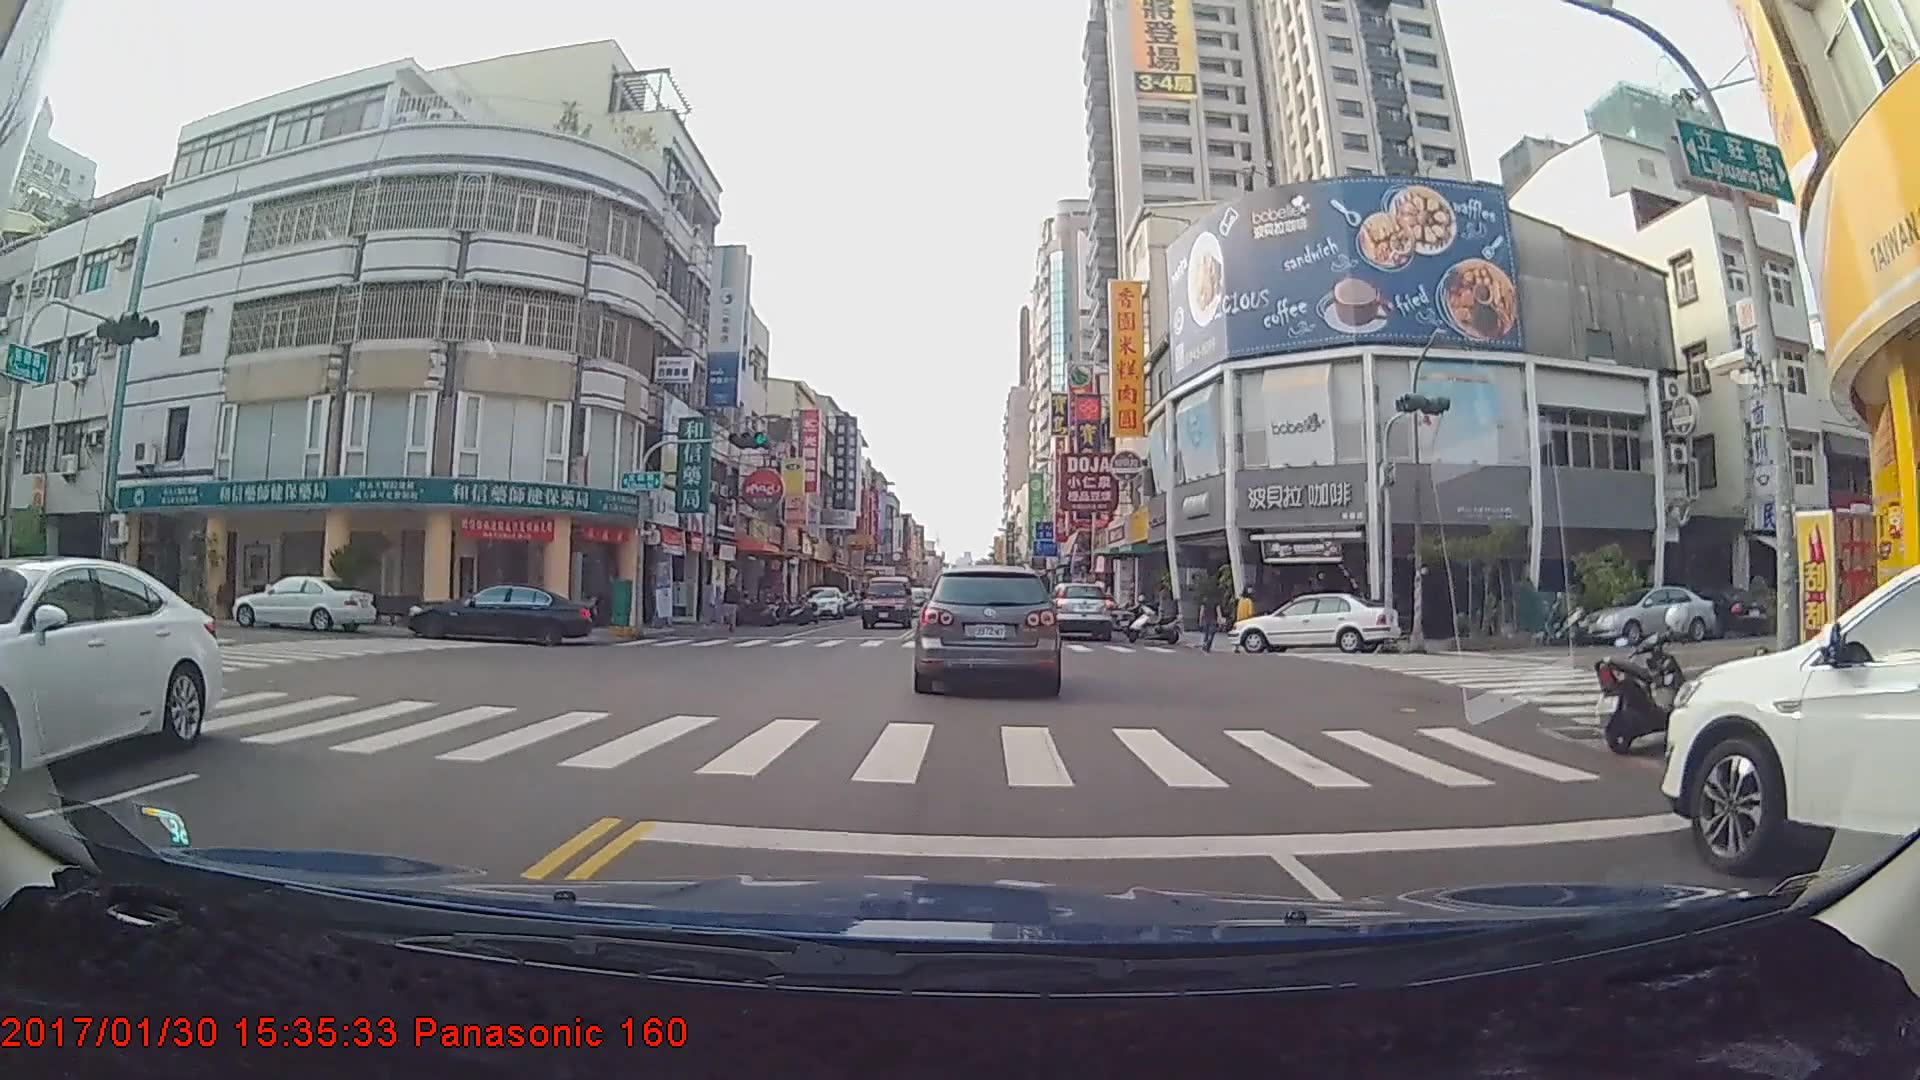pedestrian: (1198, 589, 1227, 654), (1237, 588, 1258, 651), (723, 580, 743, 639)
vehicle: (1660, 542, 1919, 942), (0, 551, 219, 809), (914, 564, 1060, 693), (402, 577, 592, 640), (1229, 592, 1400, 656), (238, 574, 378, 634), (1580, 584, 1715, 646), (1041, 580, 1113, 643), (860, 574, 913, 629), (798, 585, 845, 620)
